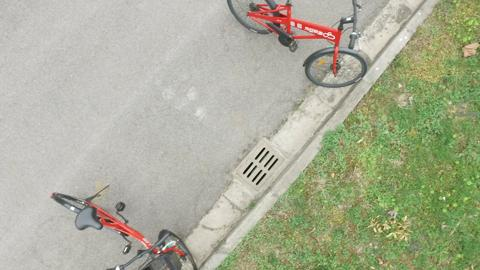bike: (39, 185, 203, 268), (222, 5, 376, 90)
